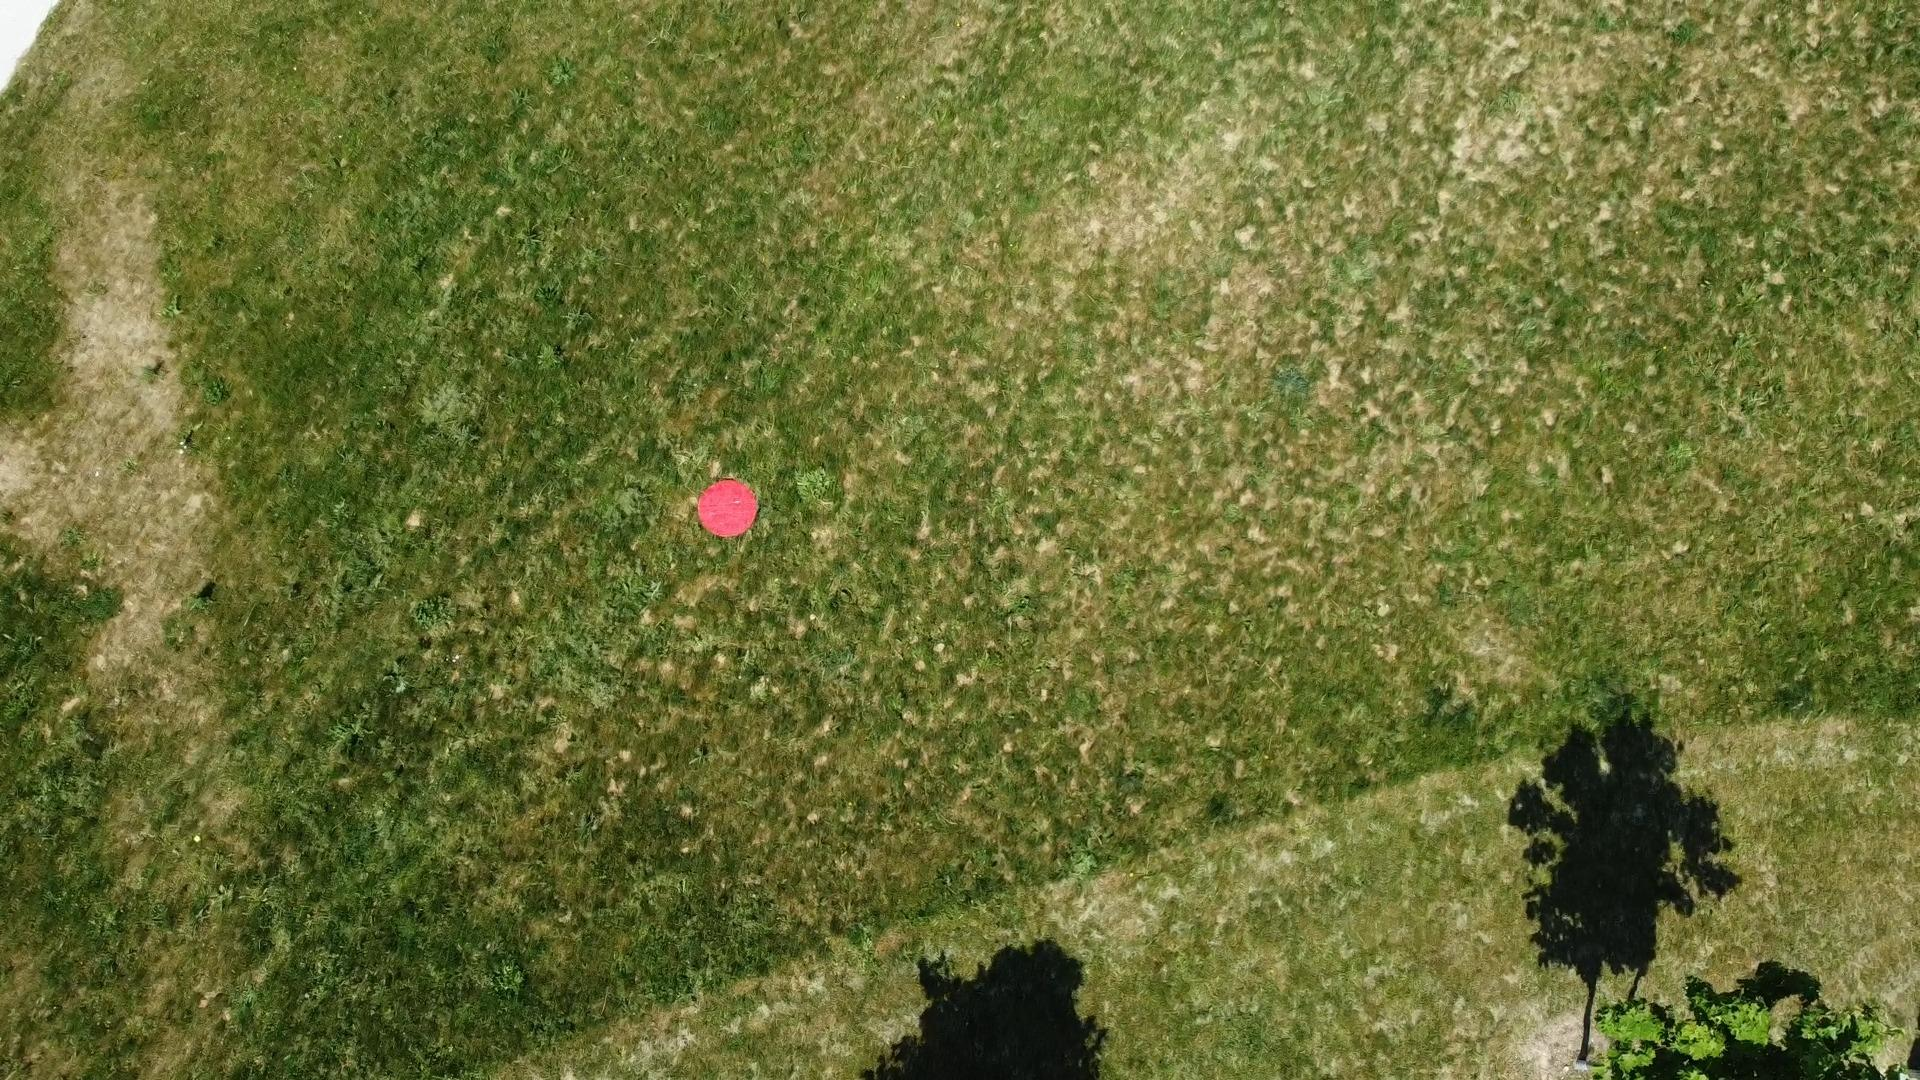Red: (695, 476, 762, 539)
